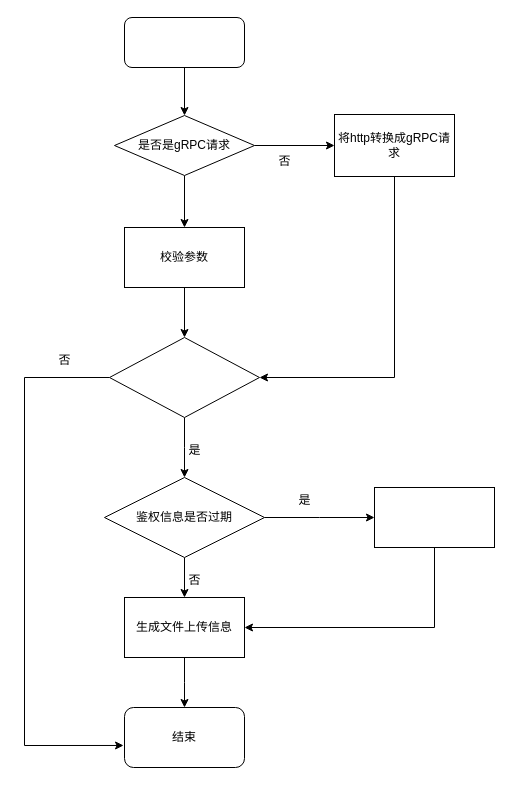
Some shapes in this 512 by 785 pixel diagram are drawn without their labels. The shapes that lost their labels are listed below. From the top down, each one's box as (x1, y1, x2, y2) in pixels, then its label:
(124, 16, 244, 68): 开始
(108, 336, 260, 418): 参数校验是通过
(374, 486, 494, 548): 到华为云获取新的鉴权信息并更新到数据库
